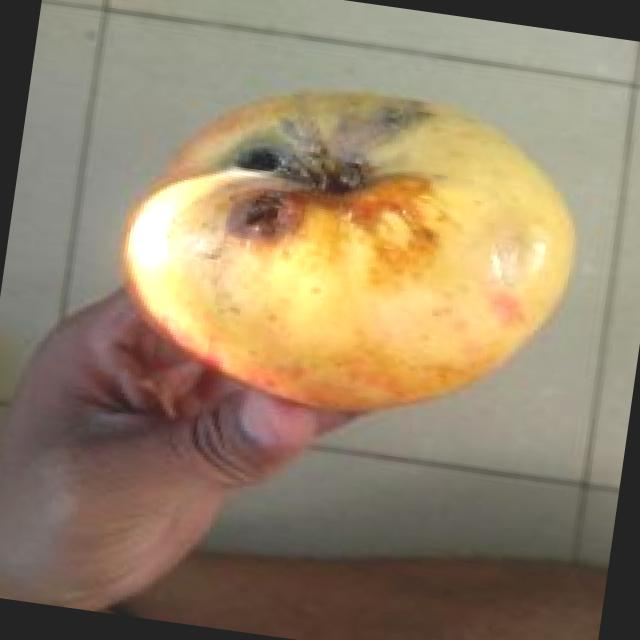Rotten_Apple: (100, 34, 622, 466)
